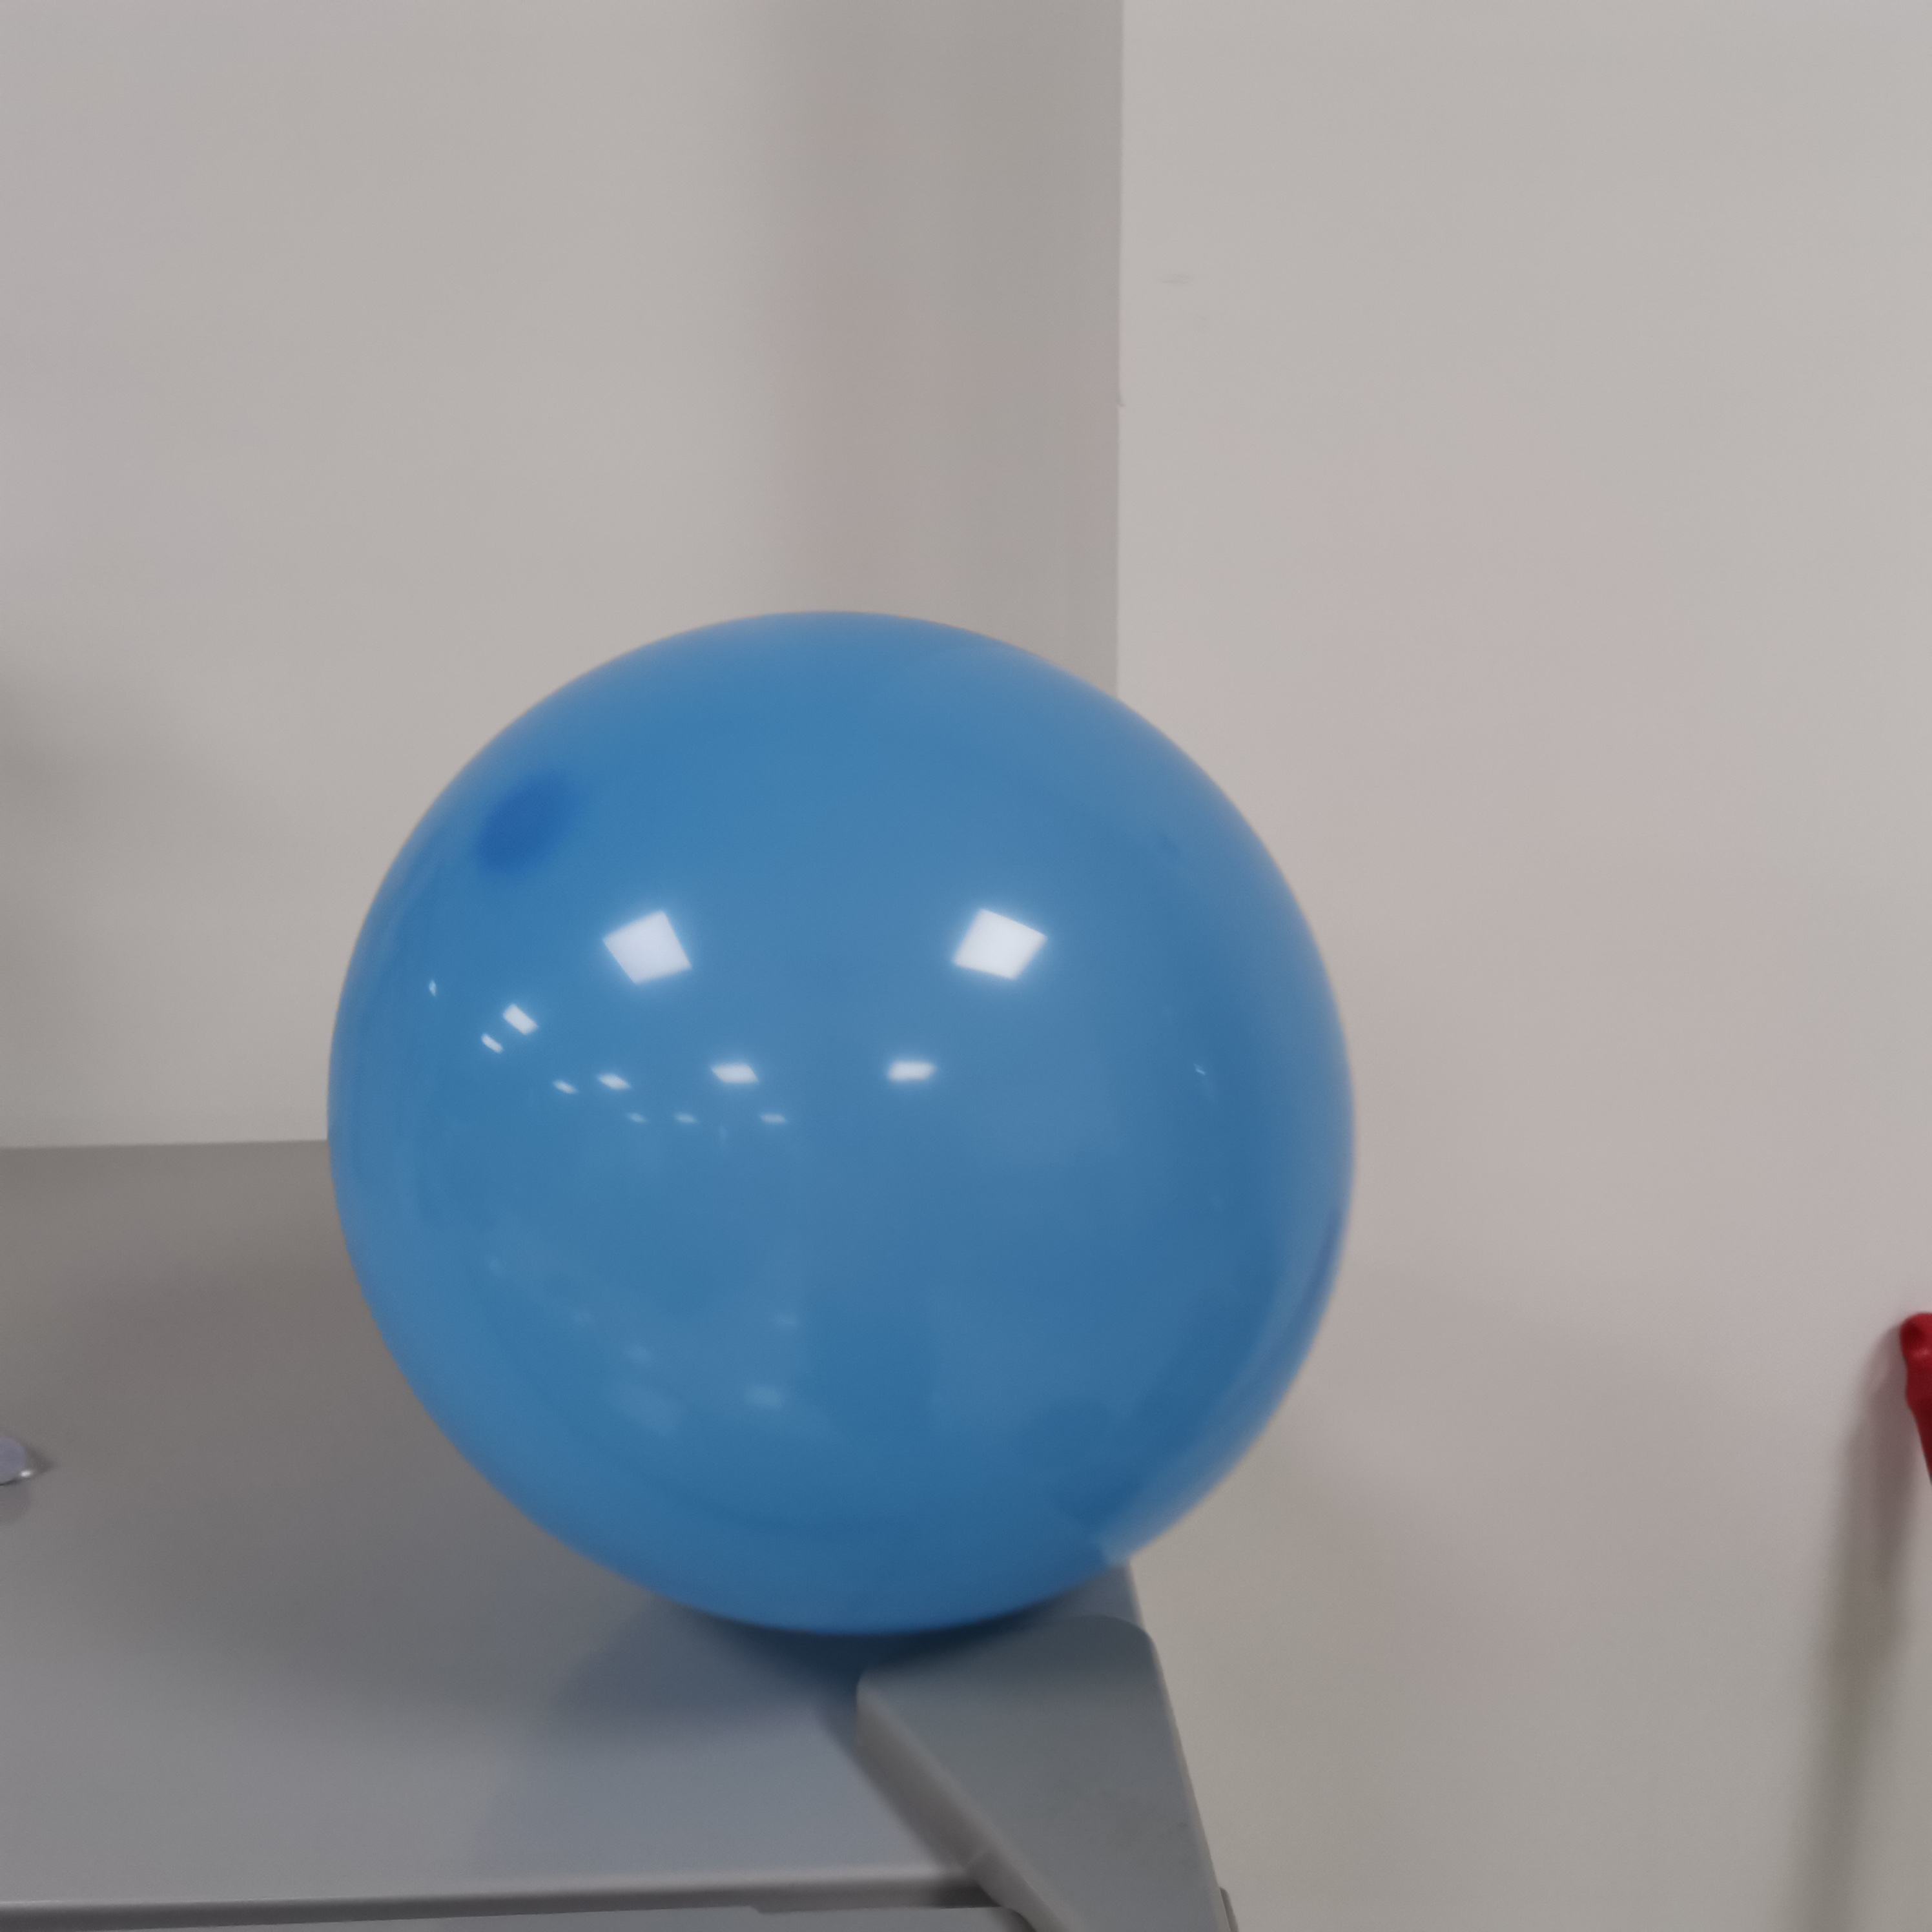balloon: (331, 616, 1357, 1651)
